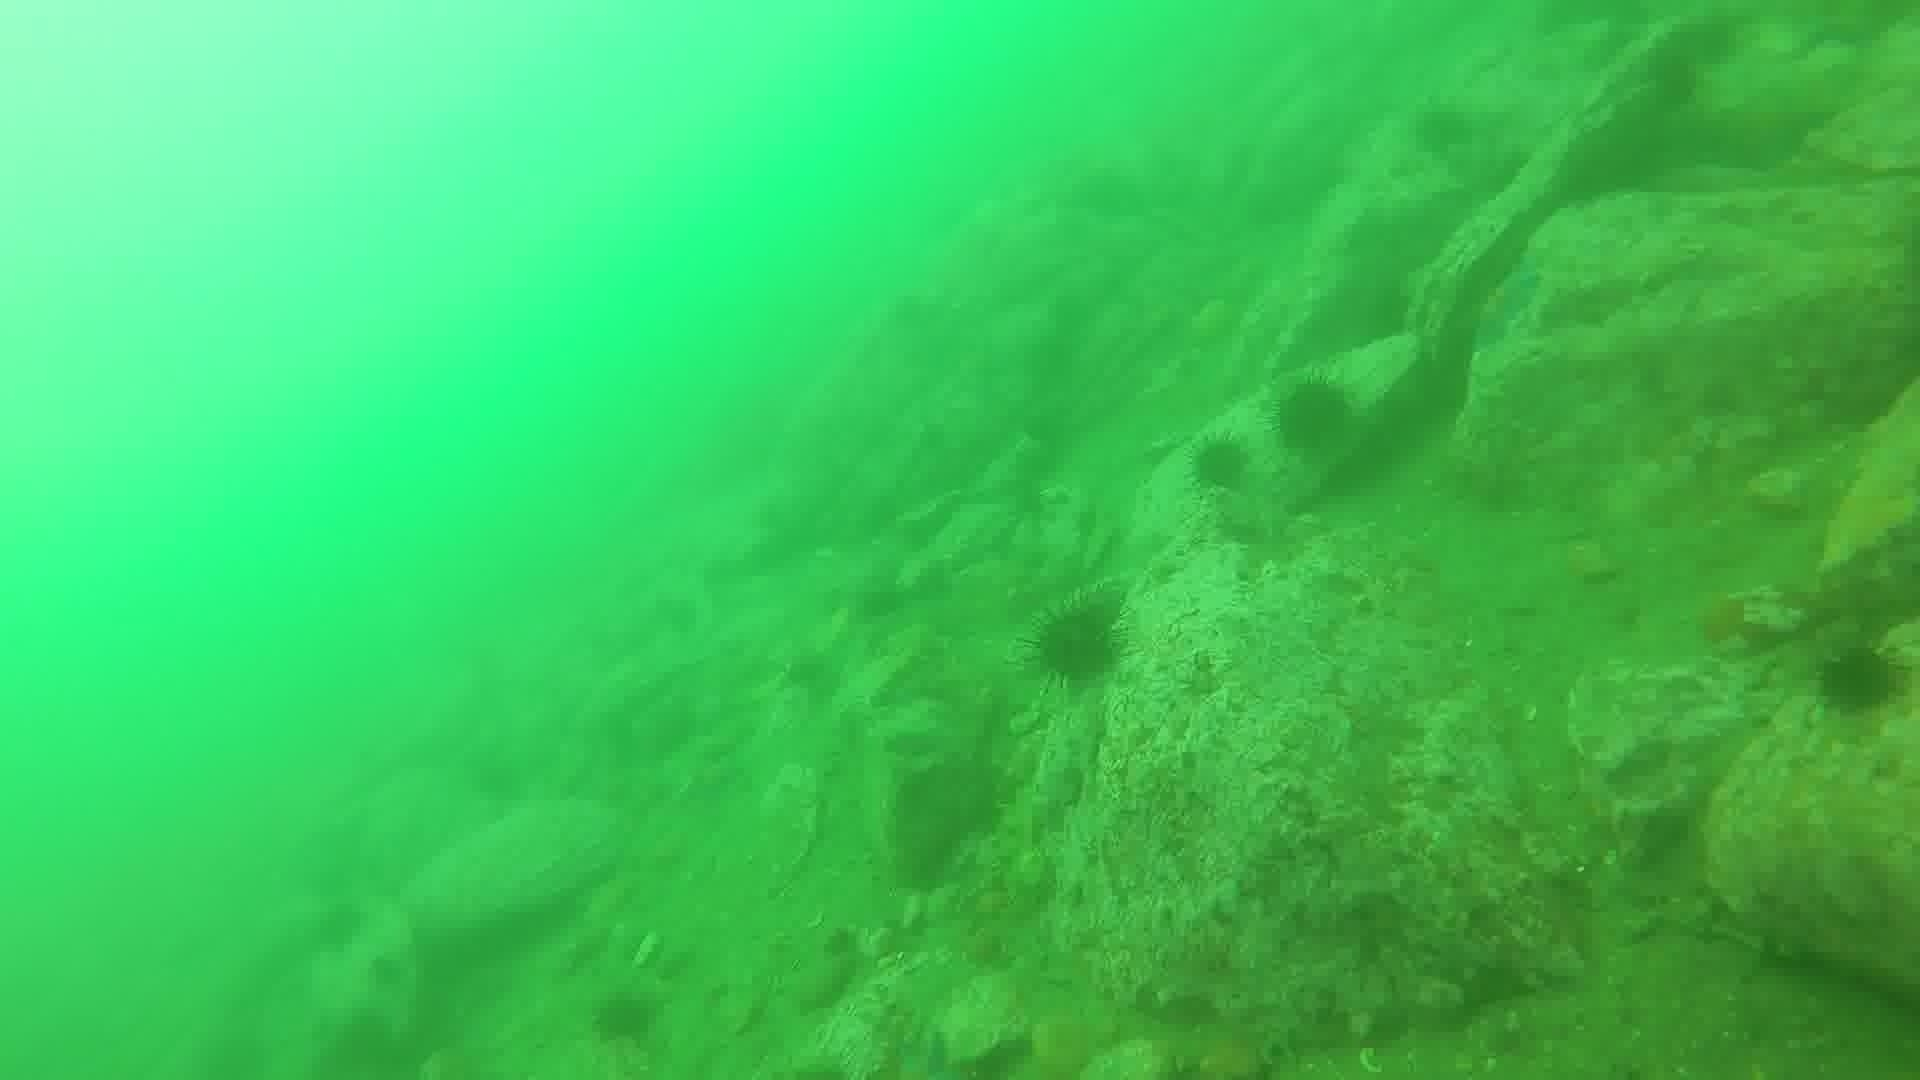echinus: (1025, 593, 1131, 692), (1267, 372, 1360, 462), (1811, 638, 1905, 721), (585, 985, 663, 1051), (1183, 429, 1255, 497), (1407, 98, 1480, 164)
starfish: (1466, 252, 1549, 353)
